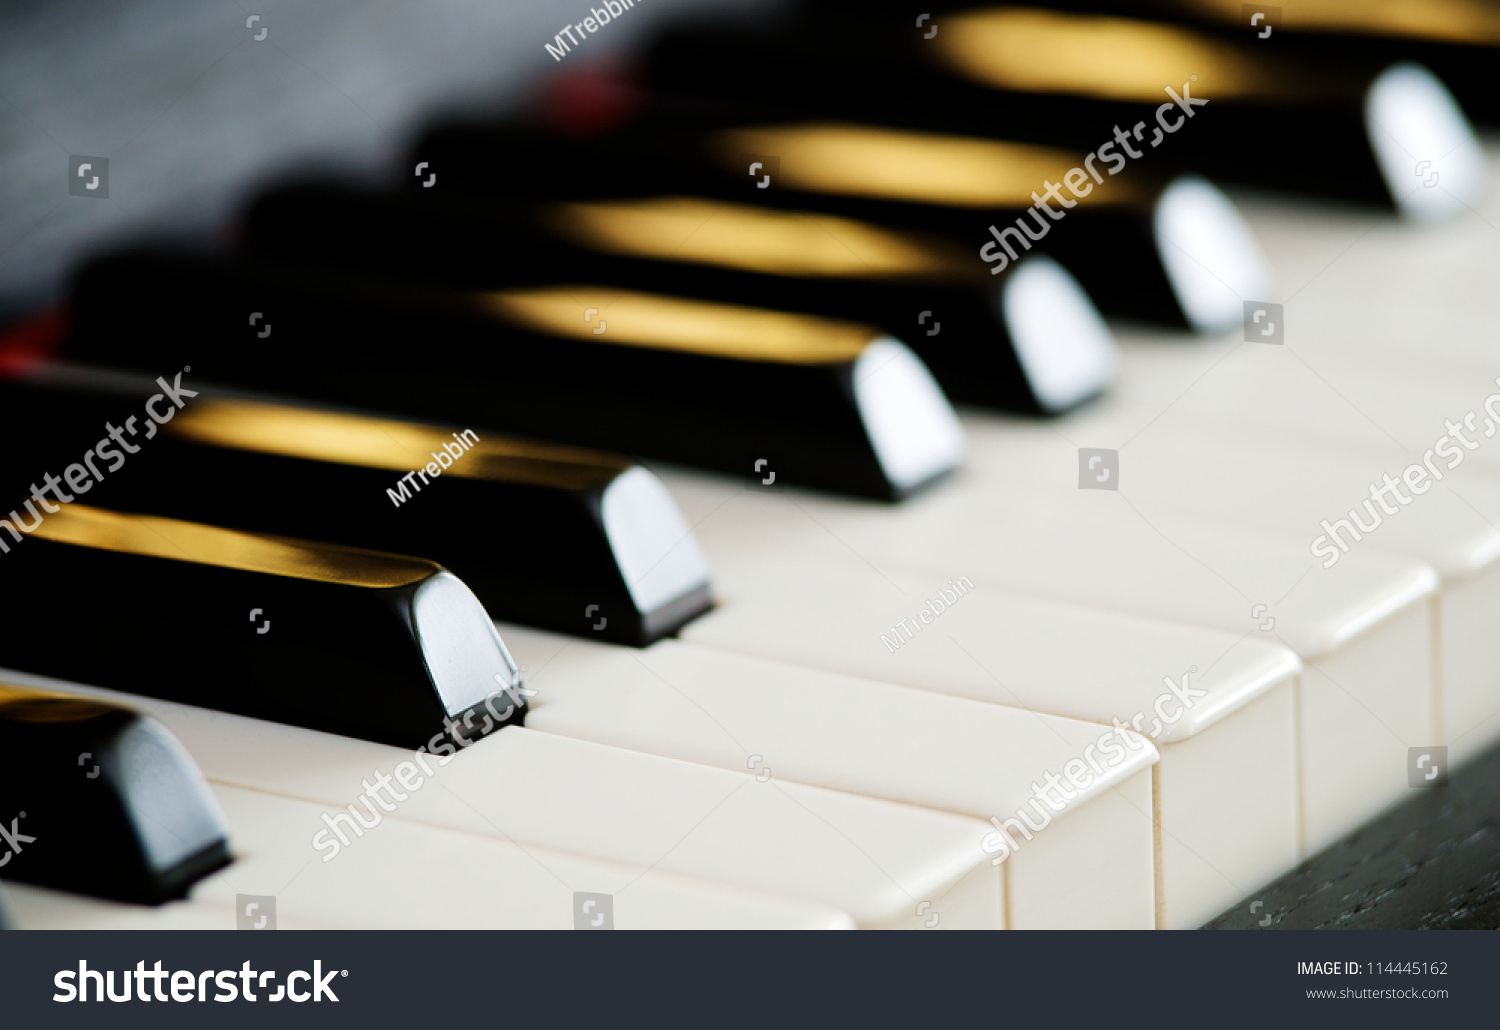Piano: (1, 1, 1490, 933)
